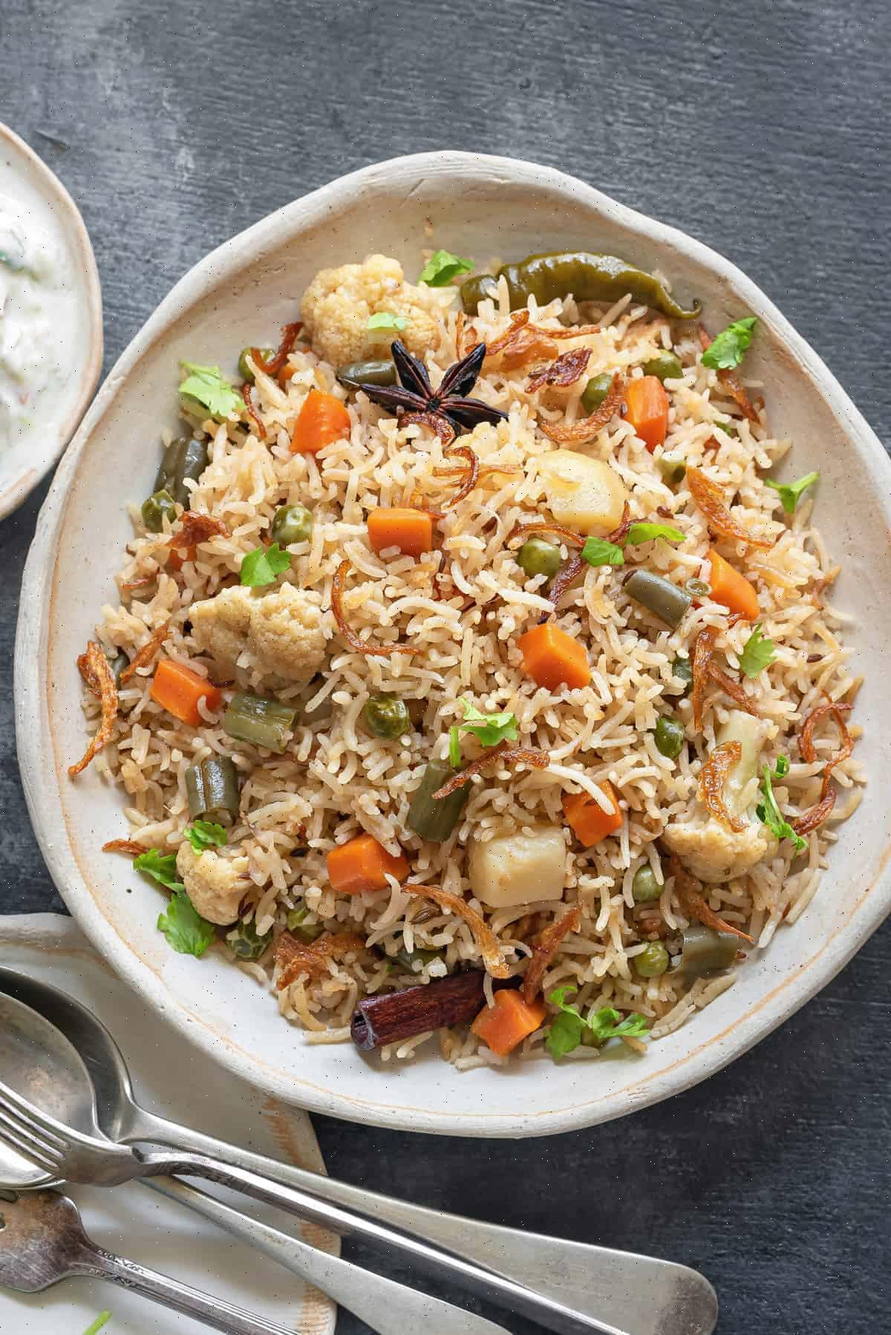veg-pulao: (157, 280, 745, 995)
